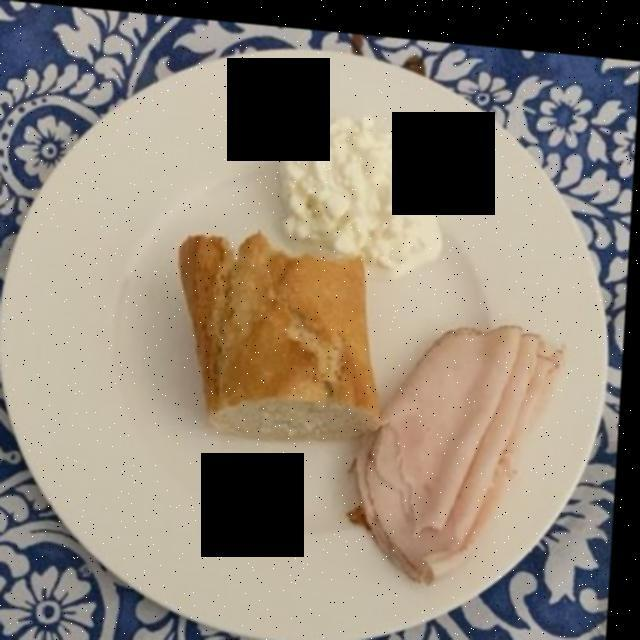bread: (184, 233, 377, 431)
cheese: (287, 116, 444, 264)
ham: (362, 318, 559, 569)
